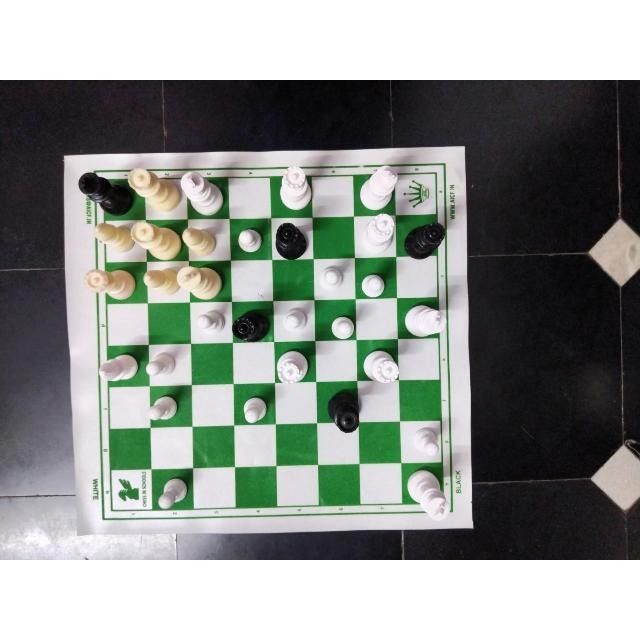black-king: (75, 171, 126, 214)
black-queen: (404, 220, 445, 259), (274, 220, 309, 259), (327, 394, 361, 433), (232, 308, 268, 340)
white-bishop: (91, 222, 134, 252), (98, 353, 139, 381), (182, 227, 217, 257), (141, 268, 179, 294)
white-king: (406, 468, 448, 521), (179, 168, 224, 215), (359, 163, 397, 209), (176, 266, 225, 300), (404, 303, 448, 337)
white-pawn: (158, 477, 190, 510), (409, 427, 441, 457), (145, 350, 176, 380), (240, 392, 268, 423), (193, 308, 225, 335), (147, 396, 179, 422), (281, 306, 311, 331), (316, 264, 346, 289), (236, 227, 264, 253), (328, 316, 355, 340), (359, 273, 385, 297)
white-queen: (127, 166, 181, 212), (128, 221, 182, 261), (82, 268, 136, 302), (359, 214, 395, 258), (279, 166, 313, 212), (362, 349, 402, 385), (274, 349, 309, 384)
